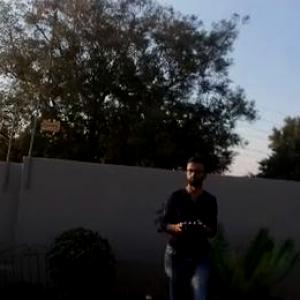follow: (153, 151, 225, 299)
